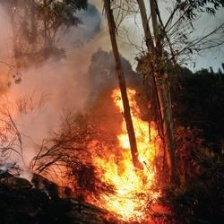fire: (99, 92, 162, 223)
smoke: (3, 8, 97, 173)
